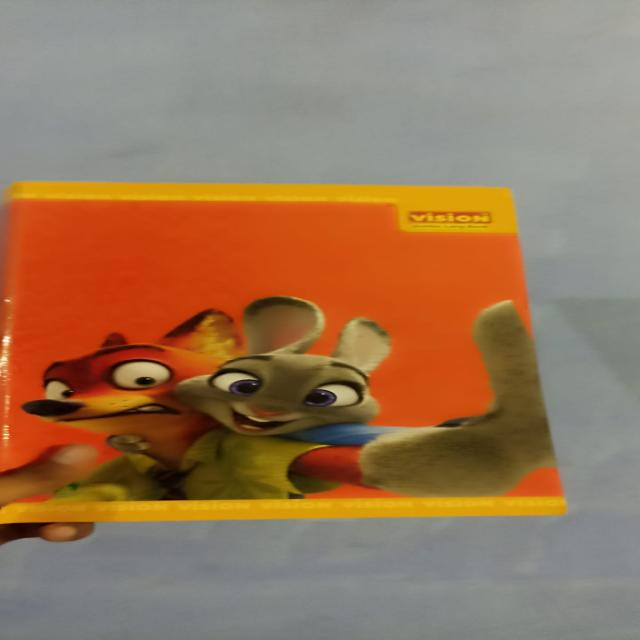book: (4, 173, 581, 523)
